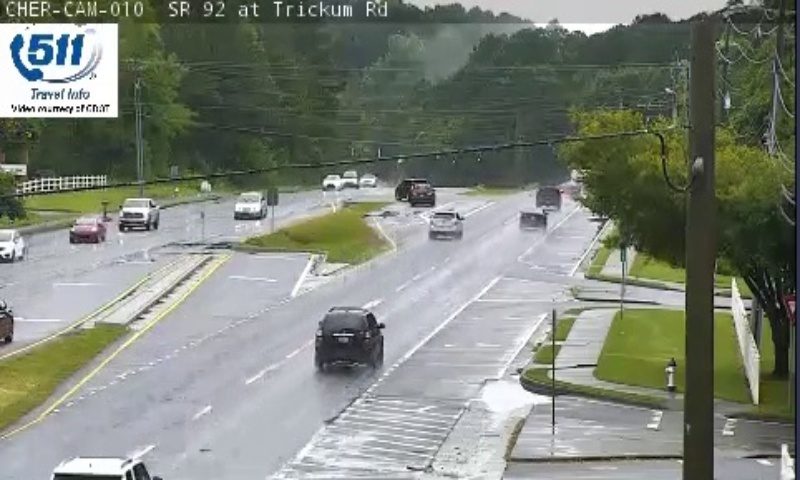car: (315, 310, 383, 366), (429, 211, 464, 238), (519, 207, 548, 230)
